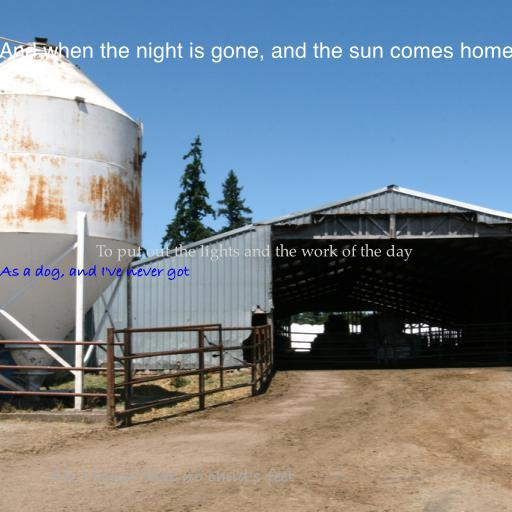Bradley Hand: (51, 467, 295, 487), (0, 265, 190, 280)
Palatino: (95, 243, 413, 261)
SF Pro: (0, 42, 512, 63)
